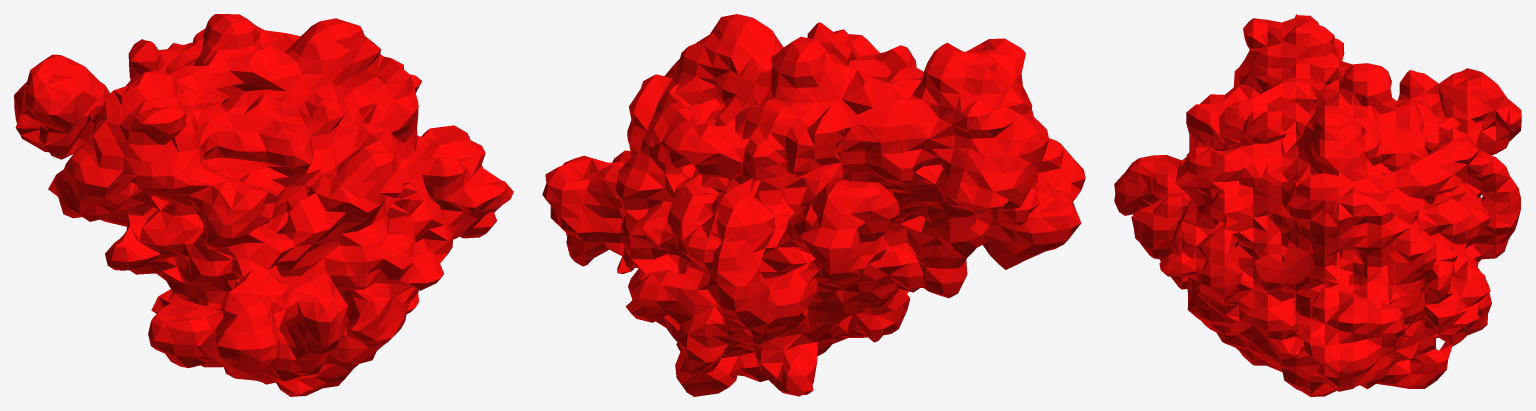
The model's file is secY_coarse.dae.
3 renders of one model, left to right at view 1: azimuth 30°, elevation 25°; view 2: azimuth 150°, elevation 25°; view 3: azimuth 270°, elevation 25°, orthographic. The views are drawn at different scales.
Parts seen in each view (by area): view 1: secY; view 2: secY; view 3: secY.
Part boxes in pixels (<box>): secY: <box>14,14,513,396</box>; secY: <box>542,14,1085,396</box>; secY: <box>1114,14,1521,396</box>.
Bounding box in the file's own units: 254 × 188 × 230.
